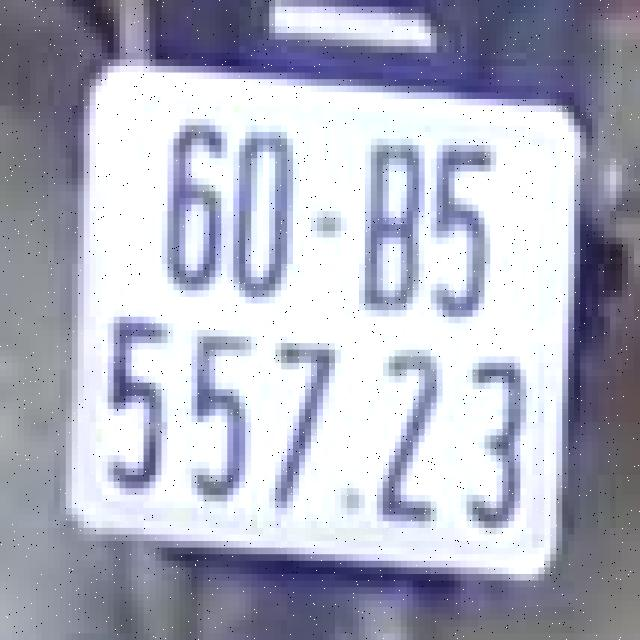0: (221, 112, 305, 297)
2: (368, 333, 451, 551)
3: (464, 336, 536, 534)
5: (93, 297, 176, 495), (422, 125, 499, 330), (182, 314, 260, 512)
6: (156, 105, 228, 304)
7: (266, 317, 338, 528)
B: (350, 119, 428, 323)
